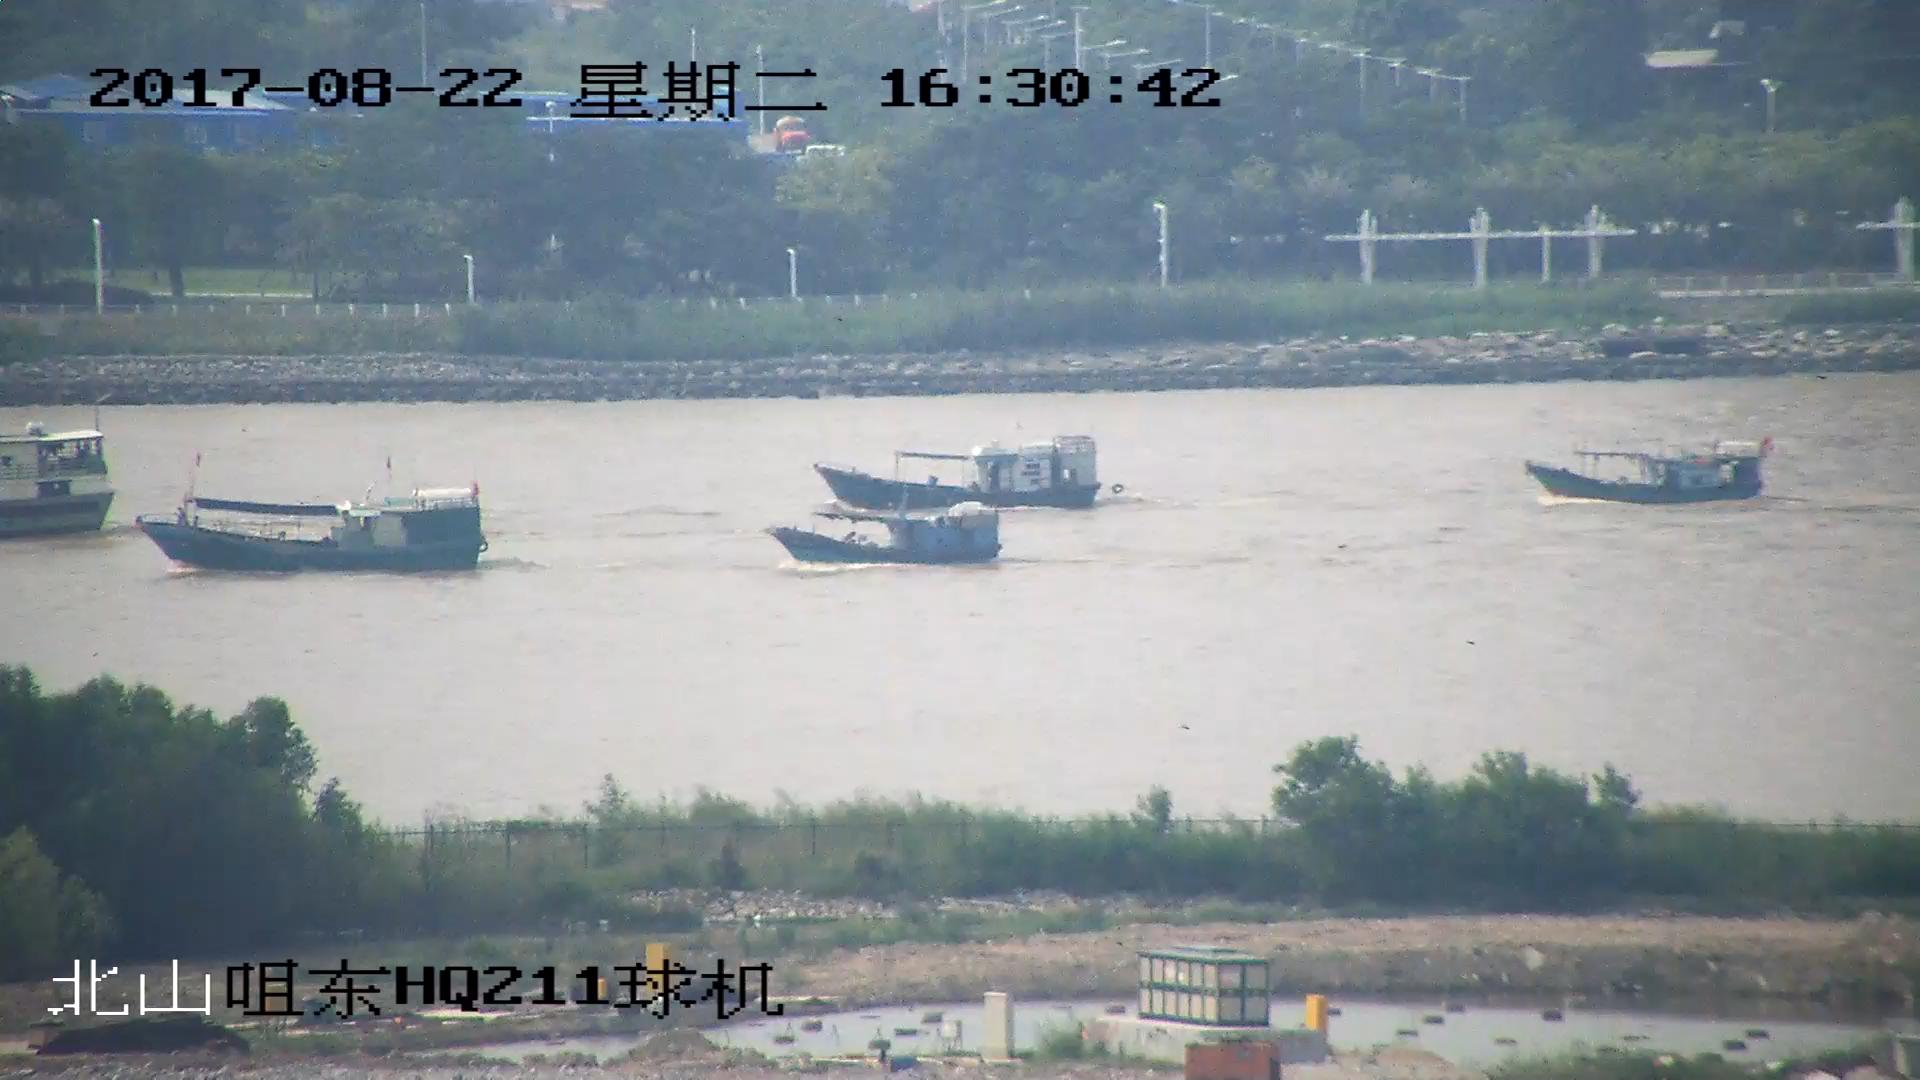fishing boat: (135, 461, 491, 580), (812, 435, 1102, 516), (1527, 439, 1767, 499), (1, 425, 121, 535), (776, 507, 1001, 561)
